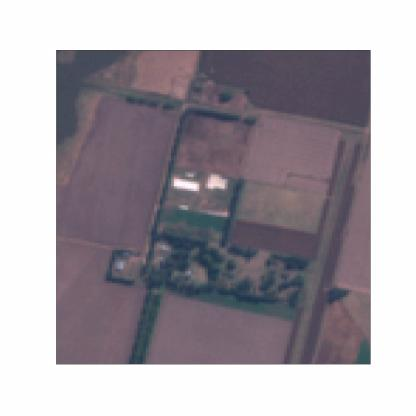silobolsa: (173, 177, 201, 194)
